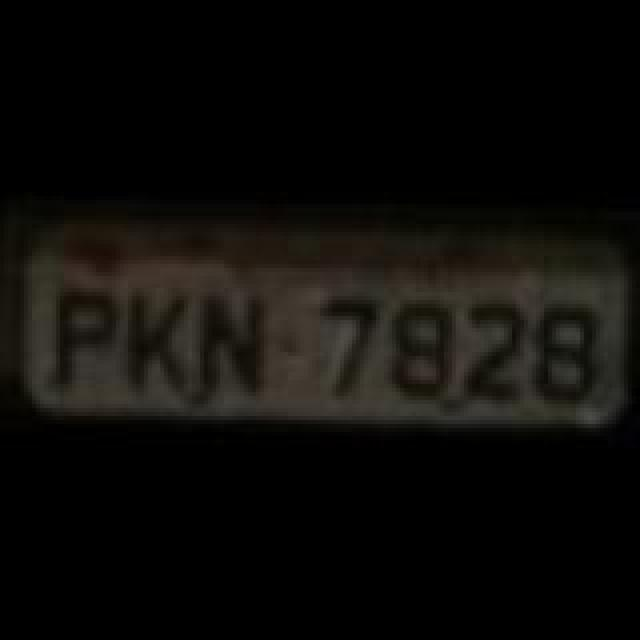2: (456, 302, 536, 410)
7: (322, 292, 382, 396)
8: (530, 294, 606, 402), (390, 292, 458, 400)
K: (124, 284, 196, 400)
N: (200, 286, 264, 398)
P: (52, 284, 116, 396)
